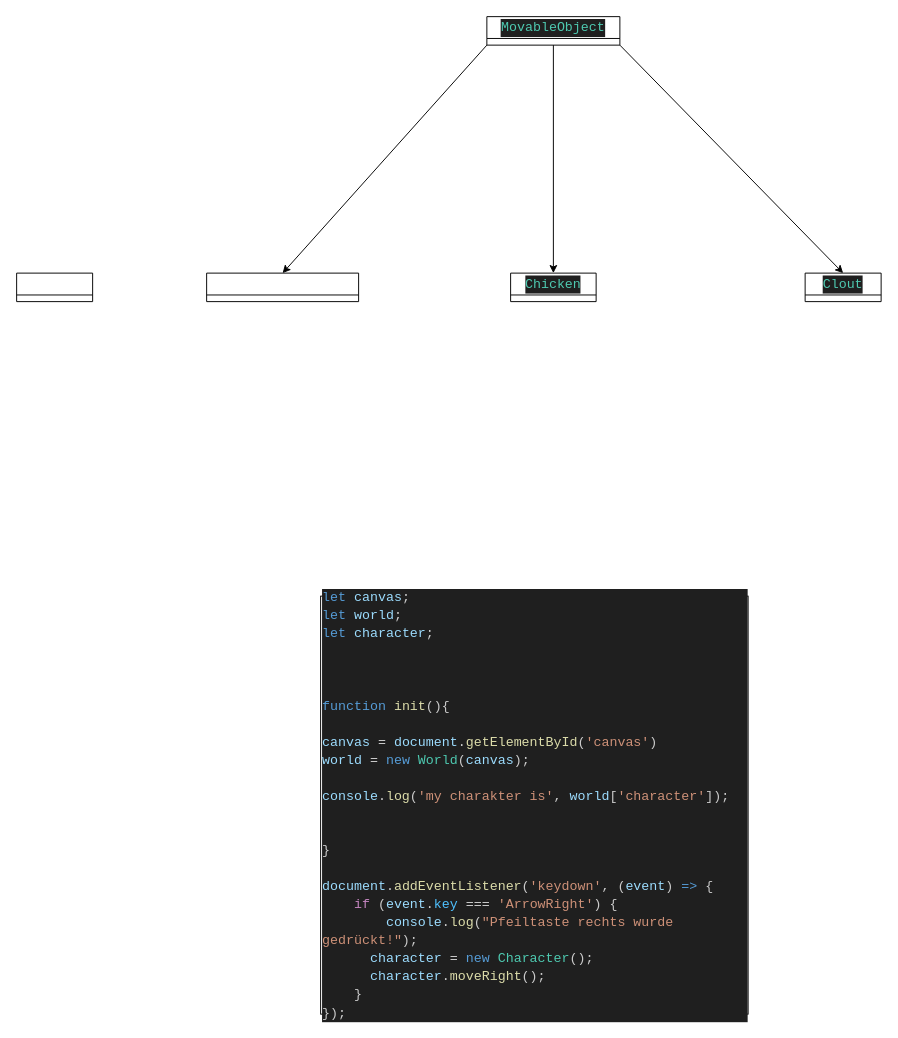
The diagram is 898 pixels wide and 1038 high, and some of its shapes have lost their labels. The box of each missing label's shape, as (x1, y1, x2, y2) in pixels:
BackgroundObjekt: (206, 272, 359, 302)
World: (16, 272, 93, 302)
